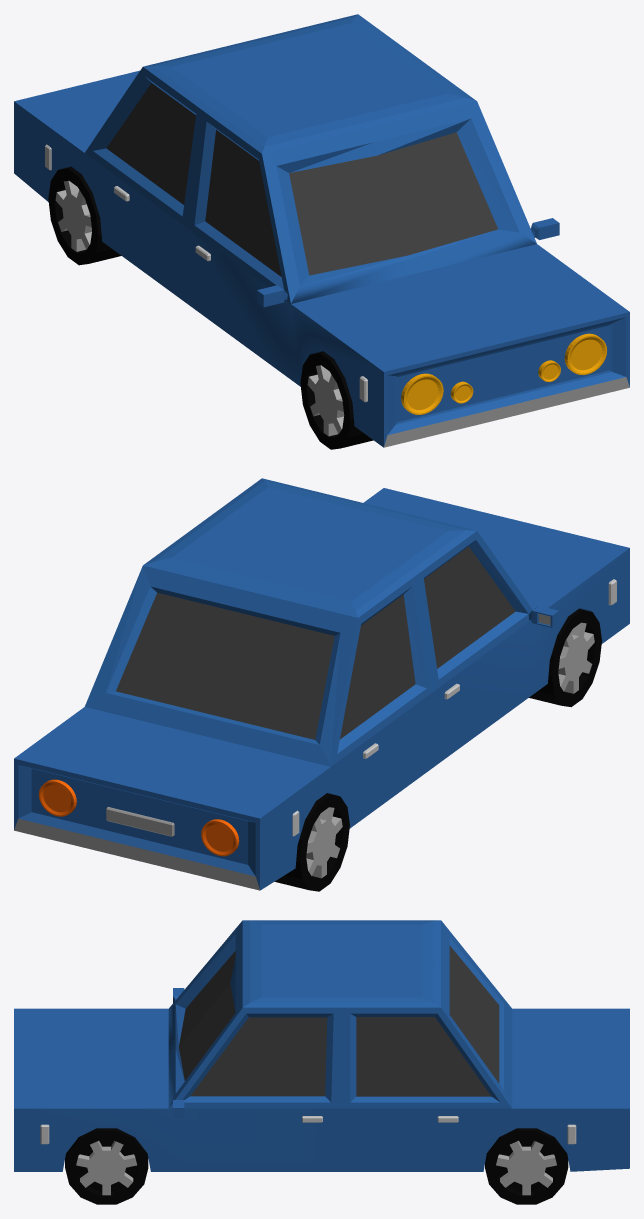
Rendered from car1.glb.
The picture shows the model from 3 angles, top to bottom: view 1: azimuth 30°, elevation 25°; view 2: azimuth 150°, elevation 25°; view 3: azimuth 270°, elevation 25°; orthographic projection. The views are drawn at different scales.
Visible parts, largest first — view 1: car1base, cw1, cw4; view 2: car1base, cw4, cw1; view 3: car1base, cw2, cw3.
Part boxes in pixels (left/top/right/bottom): car1base: left=14, top=14, right=629, bottom=447; cw1: left=300, top=351, right=373, bottom=449; cw4: left=48, top=167, right=121, bottom=265; car1base: left=14, top=478, right=629, bottom=890; cw4: left=274, top=793, right=349, bottom=891; cw1: left=529, top=608, right=601, bottom=707; car1base: left=14, top=920, right=629, bottom=1171; cw2: left=65, top=1128, right=148, bottom=1204; cw3: left=485, top=1128, right=568, bottom=1204.
Size of the model in its own units: 2.97 by 2.22 by 6.44.
1 material, 1 textured.
